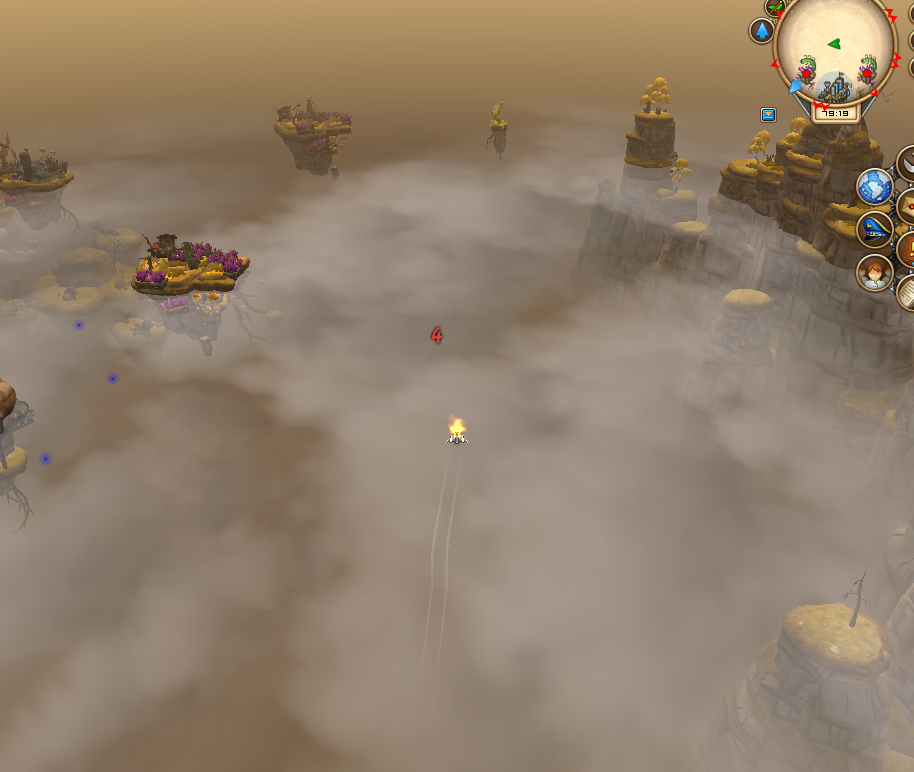dandelion-full: (483, 99, 513, 147)
